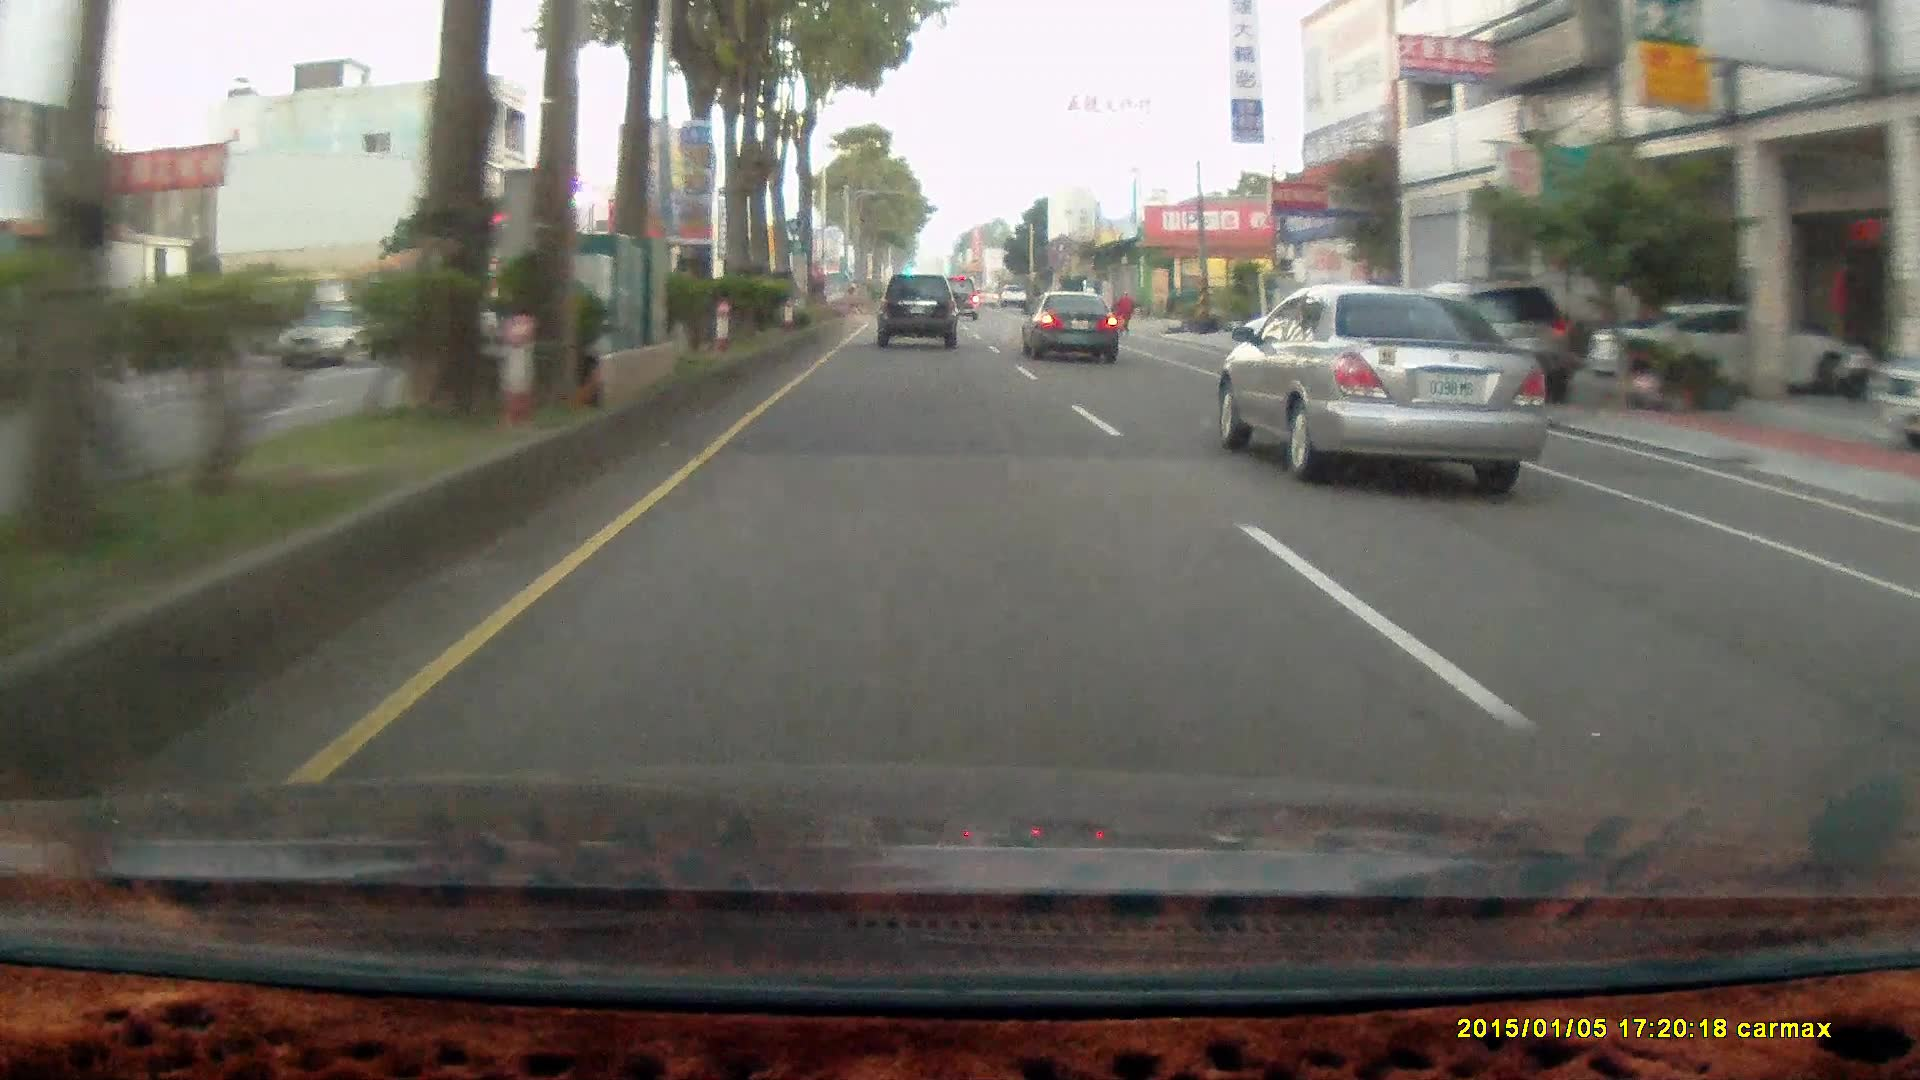pedestrian: (1115, 289, 1135, 335)
vehicle: (1218, 291, 1545, 480), (1578, 305, 1873, 396), (1360, 284, 1567, 412), (1389, 284, 1595, 412), (274, 302, 400, 373), (1020, 292, 1123, 369), (275, 303, 391, 367), (1019, 288, 1117, 363), (875, 274, 962, 353), (875, 275, 956, 350), (938, 280, 980, 325)
